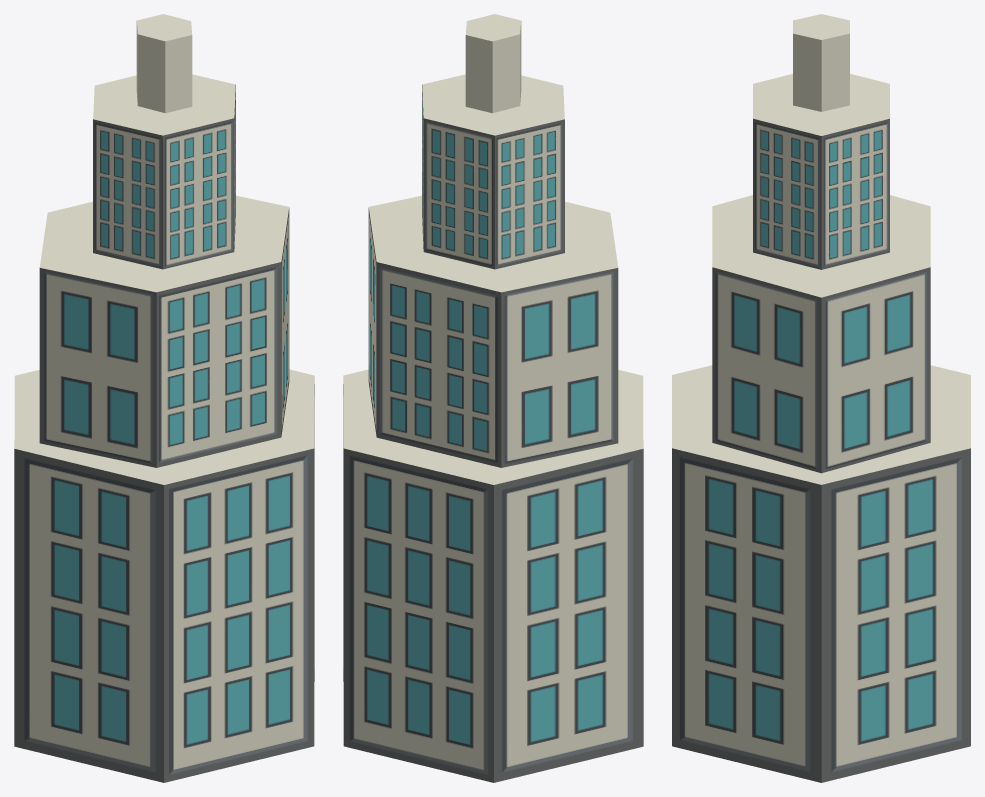
Rendered from build2.fbx.
3 views of the same model, side by side, from view 1: azimuth 30°, elevation 25°; view 2: azimuth 150°, elevation 25°; view 3: azimuth 270°, elevation 25° (orthographic).
Parts seen in each view (by area): view 1: pCylinder9; view 2: pCylinder9; view 3: pCylinder9.
Part boxes in pixels (x1=…): pCylinder9: x1=14, y1=14, x2=314, y2=782; pCylinder9: x1=343, y1=14, x2=643, y2=782; pCylinder9: x1=672, y1=14, x2=970, y2=782.
Size of the model in its own units: 6.28 by 13.65 by 5.42.
